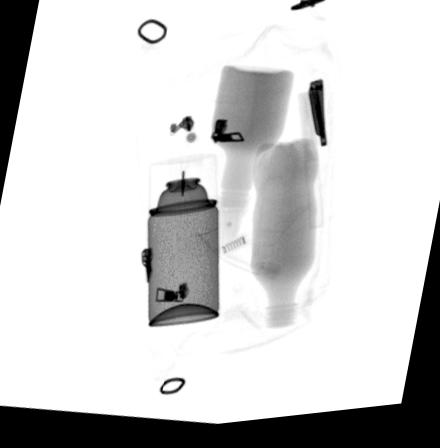Sprayer: (145, 155, 220, 332)
